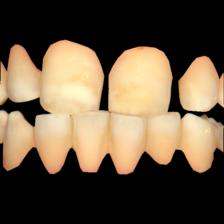cavity: (105, 128, 114, 154), (142, 127, 151, 152), (30, 127, 40, 147), (179, 126, 187, 151), (69, 127, 77, 147)
tooth: (108, 44, 174, 115), (43, 39, 104, 115), (179, 52, 221, 112), (71, 113, 112, 172), (35, 113, 74, 174), (111, 114, 148, 175), (182, 112, 217, 173), (7, 44, 41, 101), (6, 111, 35, 172), (148, 112, 180, 165)
